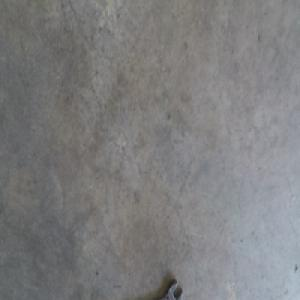Wrench: (161, 280, 186, 299)
